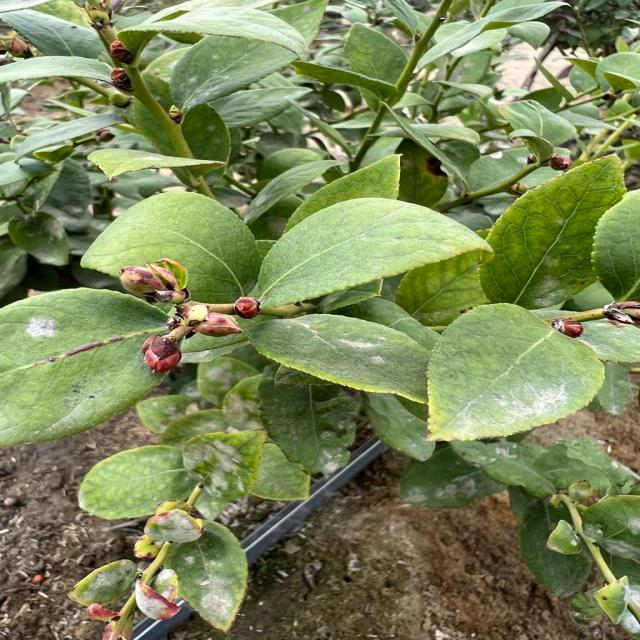Hojas con oidiosis: (434, 360, 594, 436), (159, 511, 242, 622), (165, 430, 272, 499), (11, 310, 77, 357)
